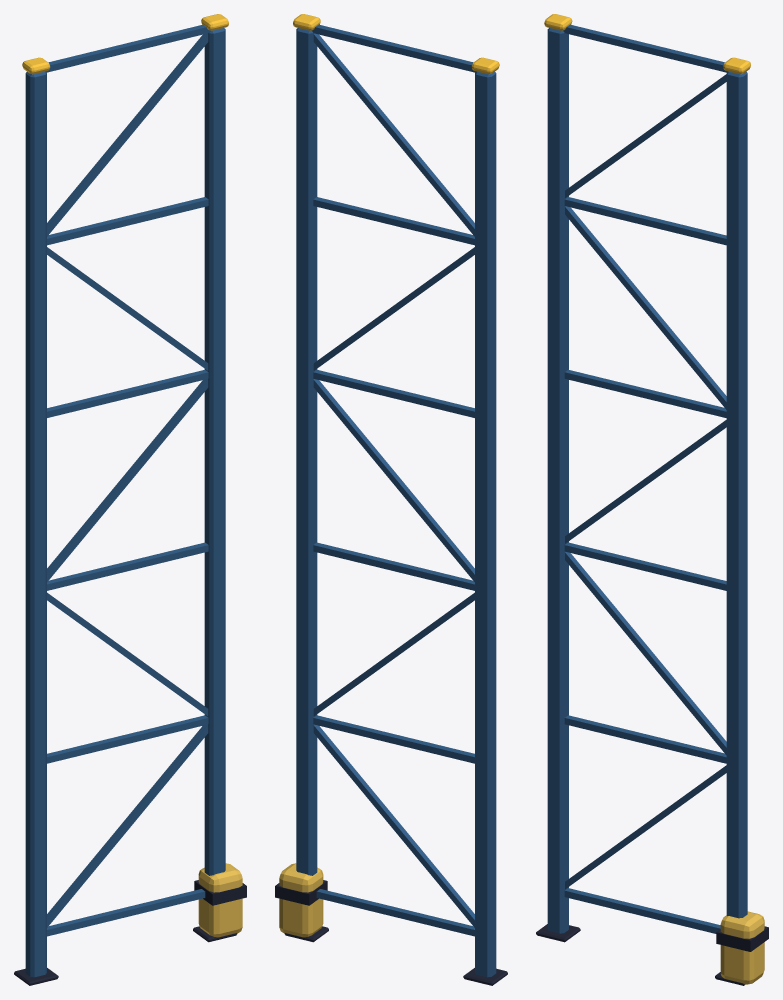
File: sm_env_depot_rack_frame.glb
3 renders of one model, left to right at view 1: azimuth 30°, elevation 25°; view 2: azimuth 150°, elevation 25°; view 3: azimuth 330°, elevation 25°, orthographic.
Visible parts, largest first — view 1: Upright, Upright.001, Brace.005, Brace.009, Brace.001, PostGuard, Brace.002, Brace.006, Brace.004, Brace.008, Brace.010, Brace (+3 smaller); view 2: Upright, Upright.001, Brace.005, Brace.009, Brace.001, PostGuard, Brace.002, Brace.006, Brace.004, Brace.008, Brace.010, Brace (+3 smaller); view 3: Upright, Upright.001, PostGuard, Brace.003, Brace.007, Brace.004, Brace.008, Brace.002, Brace.006, Brace.010, Brace, Brace.005 (+3 smaller).
Part boxes in pixels (left/top/right/bottom): Upright: left=25, top=71, right=46, bottom=977; Upright.001: left=204, top=28, right=225, bottom=875; Brace.005: left=47, top=379, right=208, bottom=581; Brace.009: left=47, top=33, right=208, bottom=236; Brace.001: left=47, top=724, right=208, bottom=927; PostGuard: left=198, top=863, right=242, bottom=937; Brace.002: left=47, top=715, right=208, bottom=763; Brace.006: left=47, top=369, right=208, bottom=417; Brace.004: left=47, top=542, right=208, bottom=590; Brace.008: left=47, top=197, right=208, bottom=245; Brace.010: left=45, top=24, right=210, bottom=72; Brace: left=47, top=889, right=205, bottom=936; Upright: left=475, top=71, right=496, bottom=977; Upright.001: left=296, top=28, right=317, bottom=875; Brace.005: left=313, top=379, right=474, bottom=581; Brace.009: left=313, top=33, right=474, bottom=236; Brace.001: left=313, top=724, right=474, bottom=927; PostGuard: left=279, top=863, right=323, bottom=937; Brace.002: left=313, top=715, right=474, bottom=763; Brace.006: left=313, top=369, right=474, bottom=417; Brace.004: left=313, top=542, right=474, bottom=590; Brace.008: left=313, top=197, right=474, bottom=245; Brace.010: left=311, top=24, right=476, bottom=72; Brace: left=316, top=889, right=474, bottom=936; Upright: left=547, top=28, right=568, bottom=933; Upright.001: left=726, top=71, right=747, bottom=918; PostGuard: left=720, top=911, right=764, bottom=984; Brace.003: left=565, top=552, right=726, bottom=755; Brace.007: left=565, top=206, right=726, bottom=409; Brace.004: left=564, top=542, right=726, bottom=590; Brace.008: left=564, top=197, right=726, bottom=245; Brace.002: left=564, top=715, right=726, bottom=763; Brace.006: left=564, top=369, right=726, bottom=417; Brace.010: left=563, top=24, right=727, bottom=72; Brace: left=564, top=888, right=720, bottom=933; Brace.005: left=565, top=420, right=726, bottom=543.
Size of the model in its own units: 1.57 by 6.36 by 0.23.
